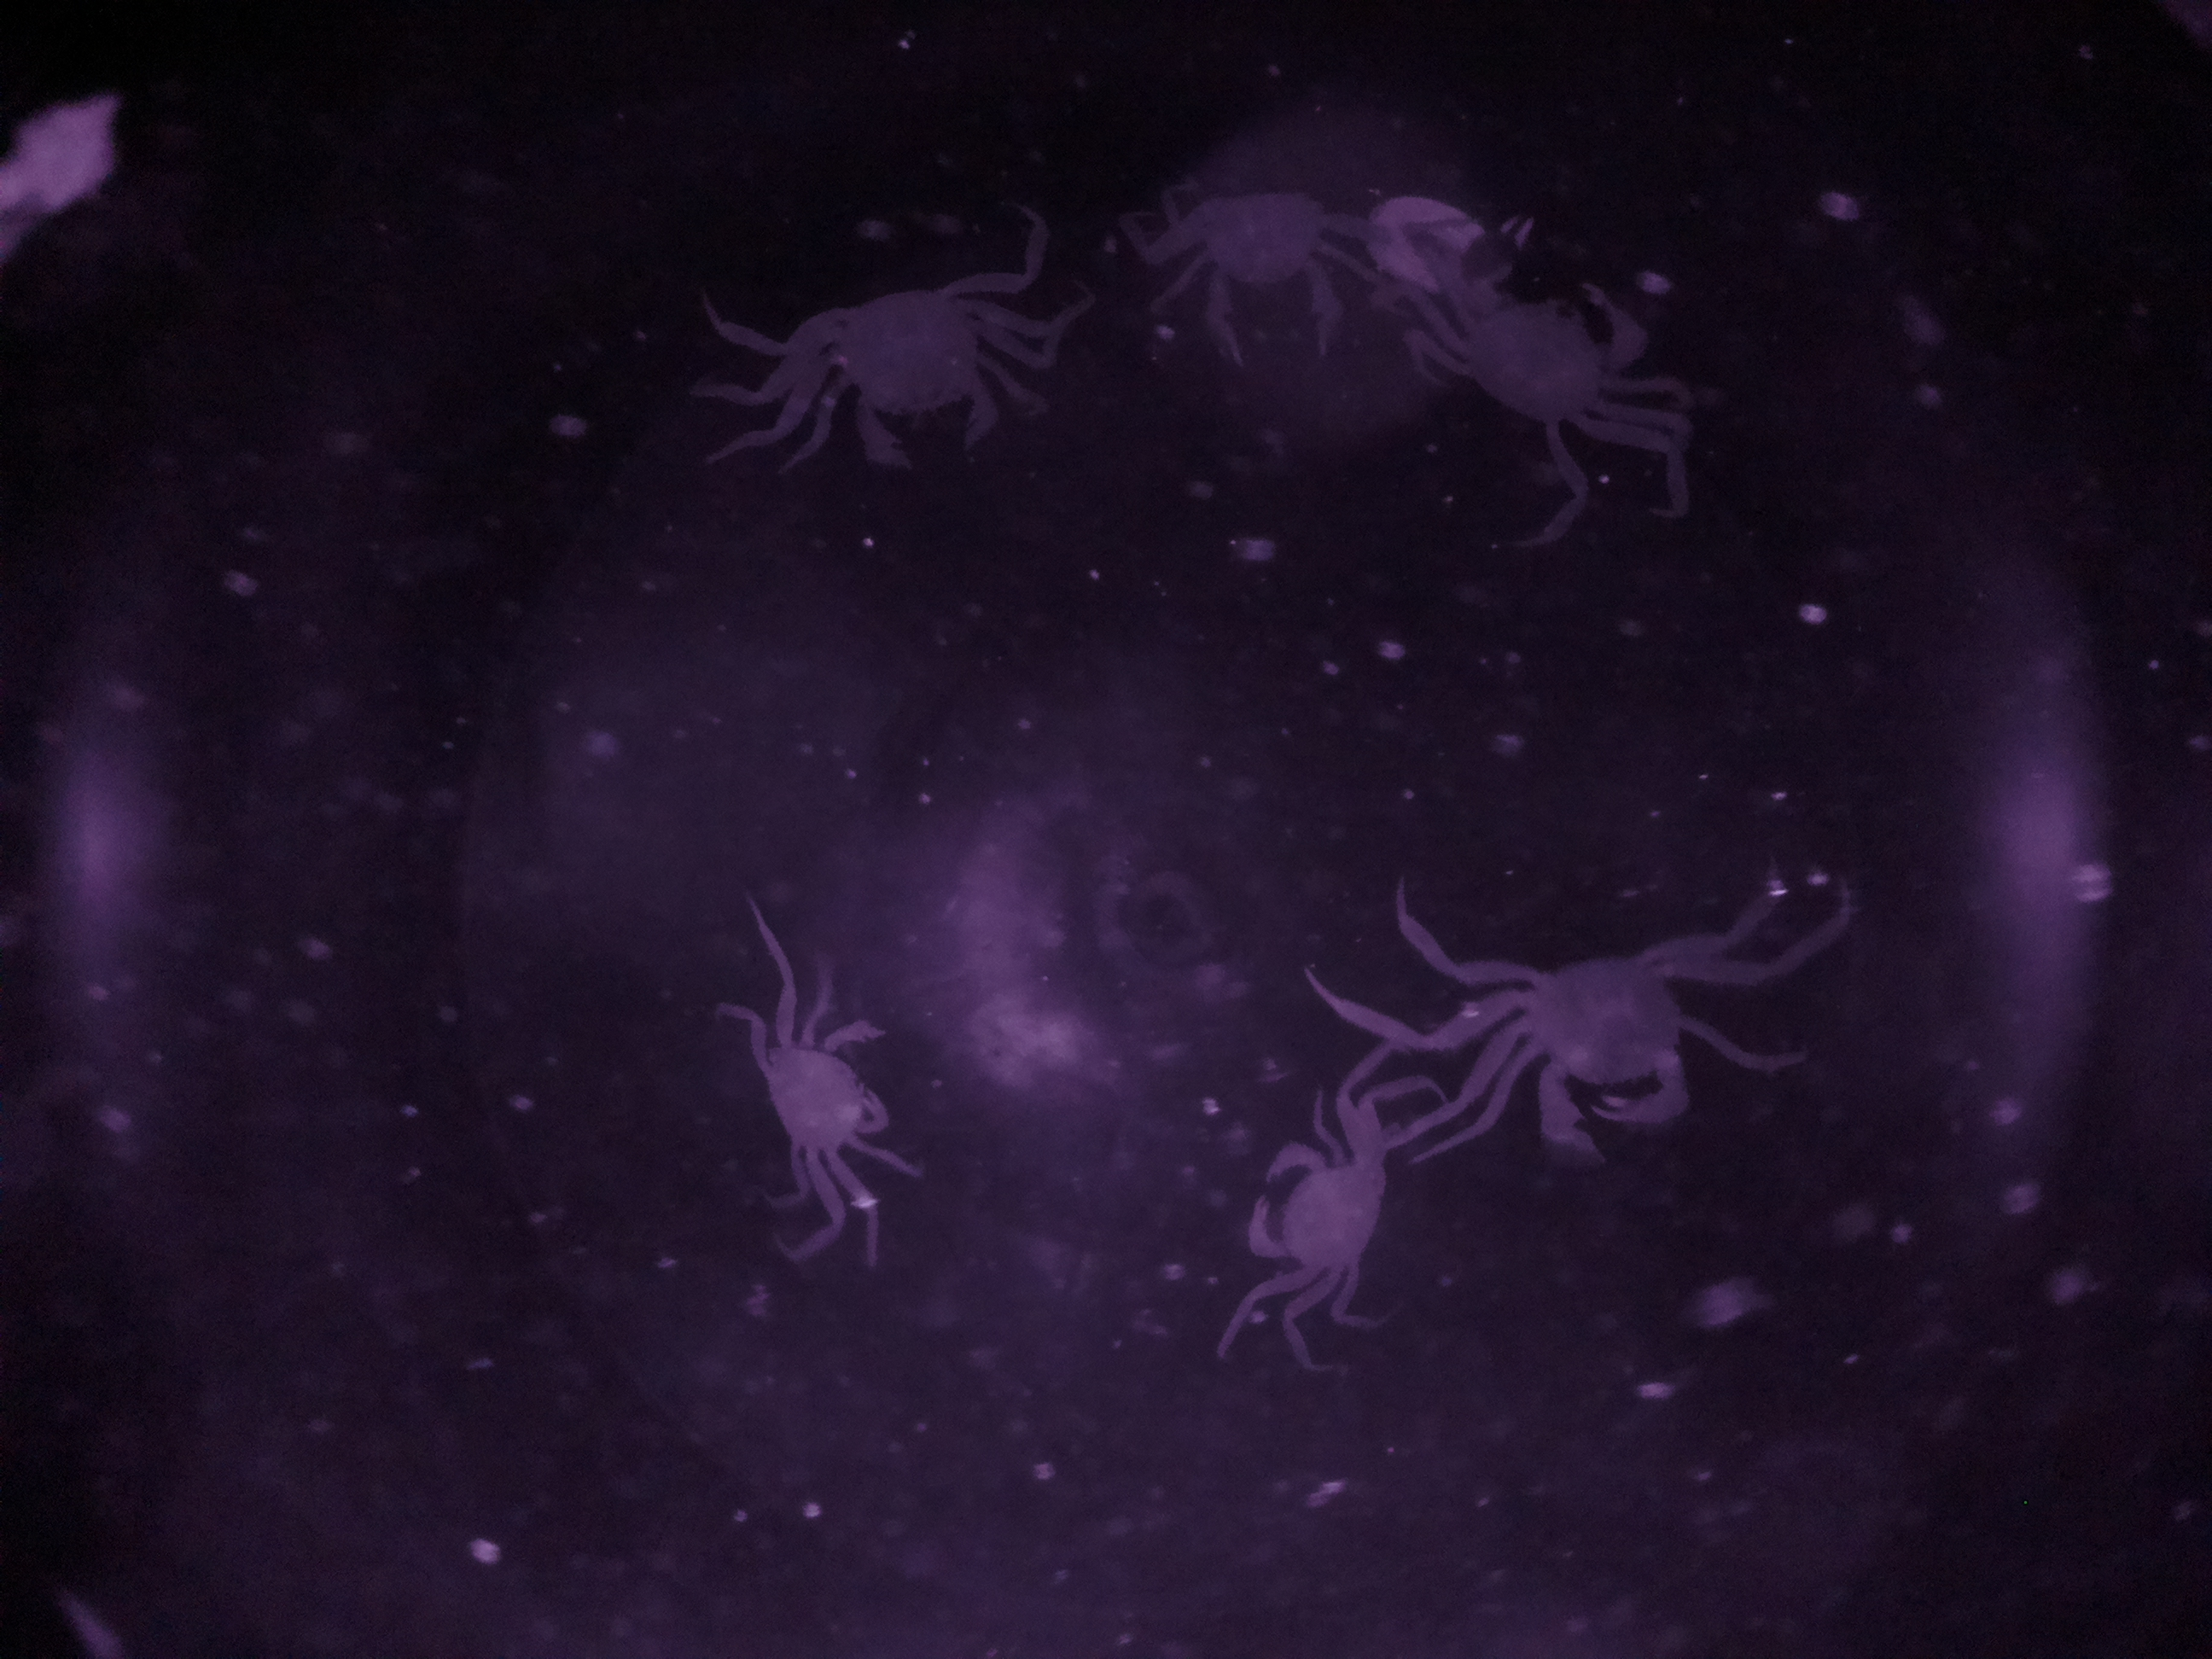Crab: (1393, 179, 1703, 469), (1433, 903, 1766, 1169), (761, 239, 1085, 502), (728, 960, 935, 1202), (1224, 1119, 1420, 1307)
